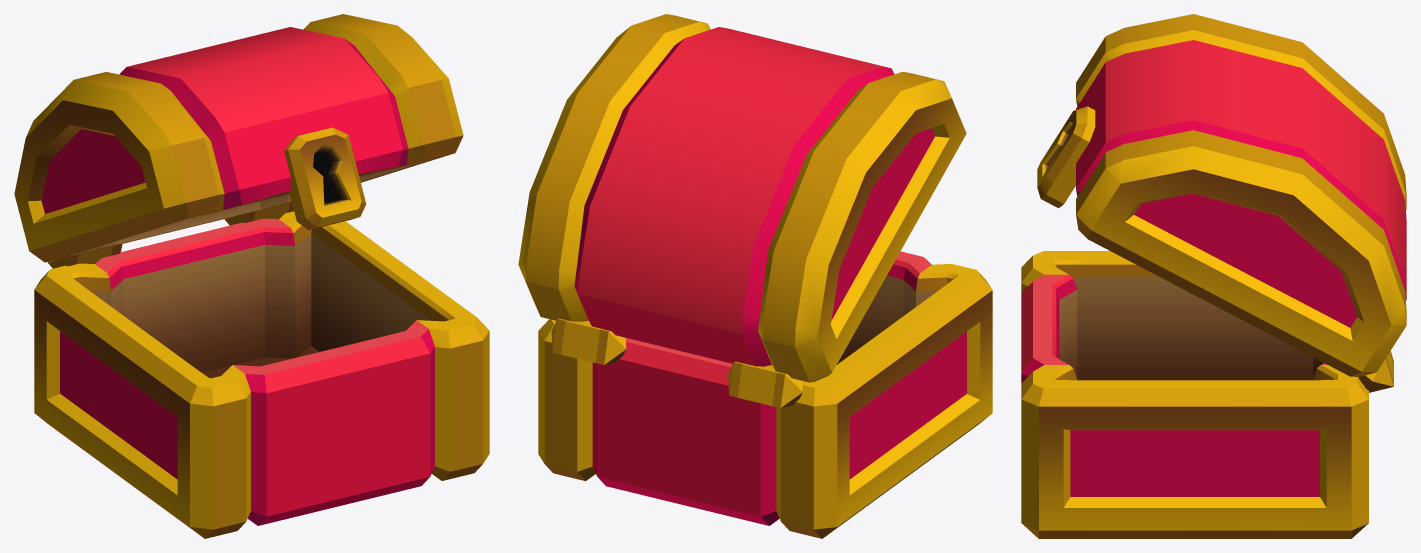
Rendered from m_deco_chestA_open.FBX.
3 views of the same model, side by side, from view 1: azimuth 30°, elevation 25°; view 2: azimuth 150°, elevation 25°; view 3: azimuth 270°, elevation 25° (orthographic).
Parts seen in each view (by area): view 1: m_deco_chestA_open; view 2: m_deco_chestA_open; view 3: m_deco_chestA_open.
Part boxes in pixels (x1,y1,x2,y2): m_deco_chestA_open: (14,14,489,538); m_deco_chestA_open: (518,14,992,538); m_deco_chestA_open: (1021,14,1406,538).
Size of the model in its own units: 2 by 2.5 by 2.22.
